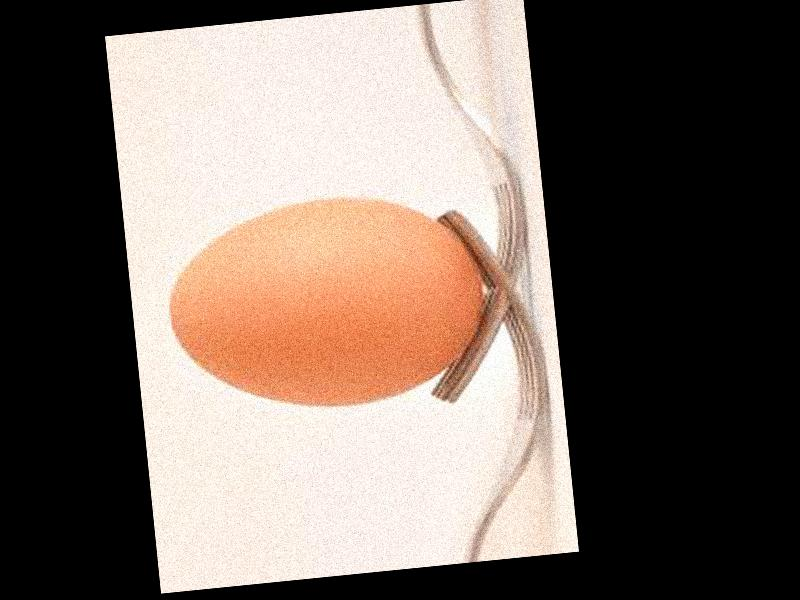Eggs: (161, 184, 492, 421)
